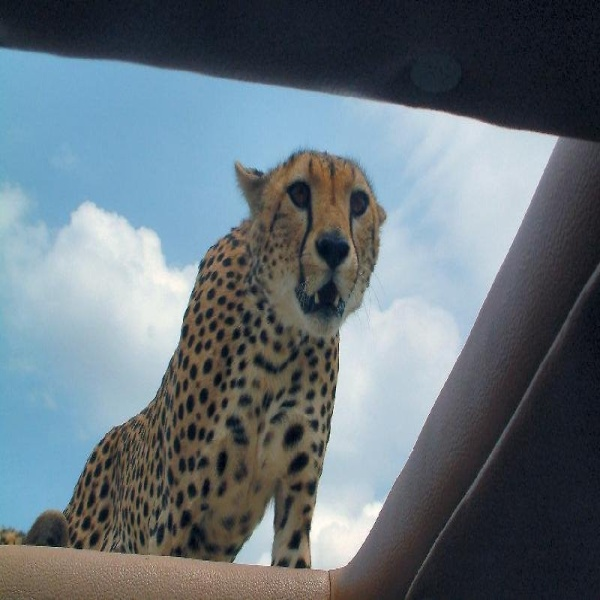Cheetah: (66, 139, 393, 573)
